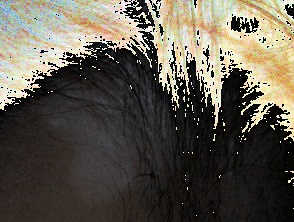vitiligo: (0, 0, 249, 222)
